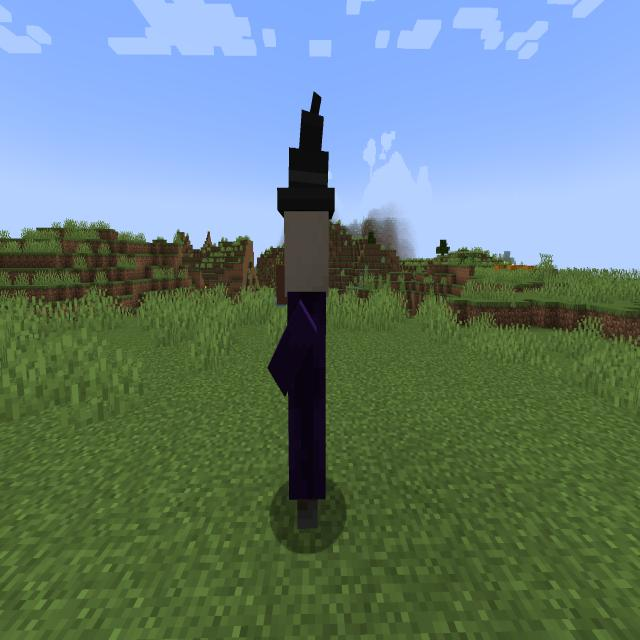Witch: (258, 81, 344, 568)
